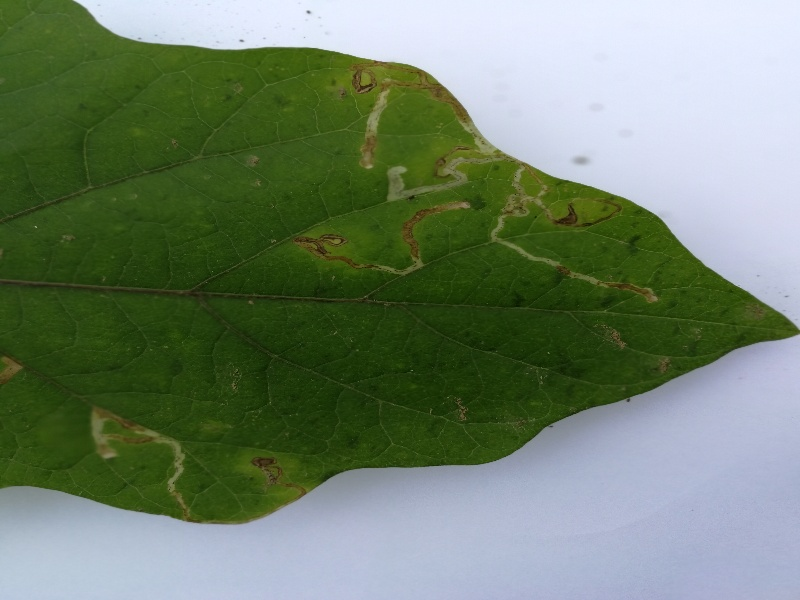leafminer: (488, 161, 662, 305), (345, 56, 508, 202), (288, 195, 478, 280), (82, 400, 195, 521), (242, 453, 312, 503)
